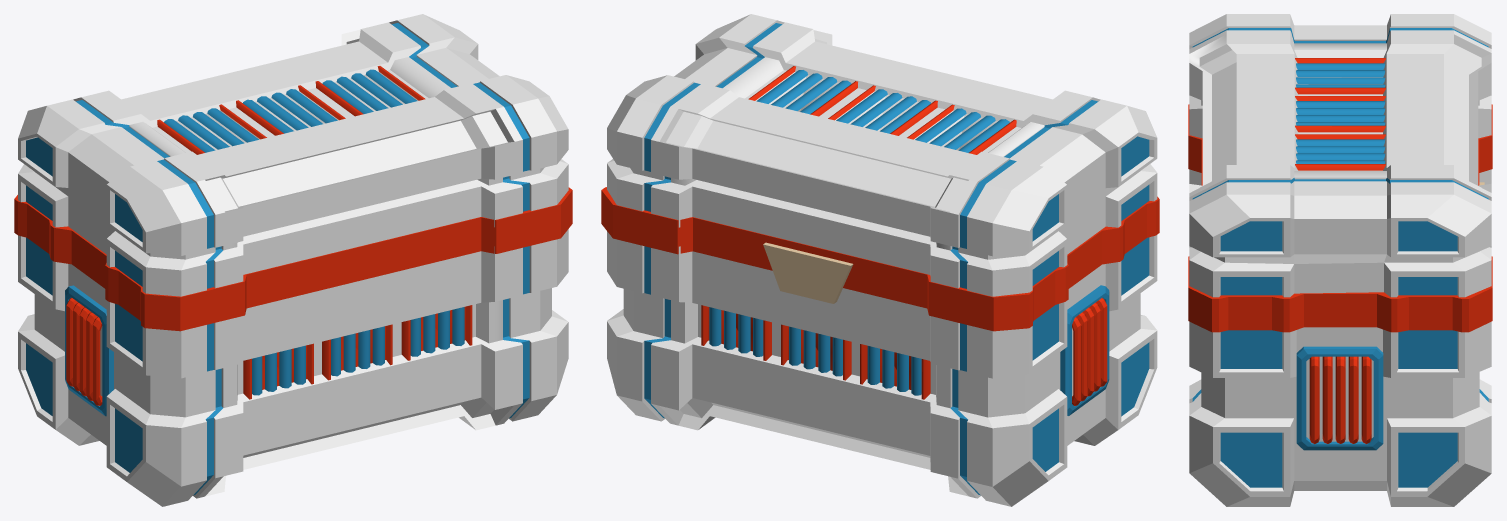
Rendered from Props_ChestTop.005.fbx.
3 views of the same model, side by side, from view 1: azimuth 30°, elevation 25°; view 2: azimuth 150°, elevation 25°; view 3: azimuth 270°, elevation 25° (orthographic).
Visible parts, largest first — view 1: Props_ChestTop.005; view 2: Props_ChestTop.005; view 3: Props_ChestTop.005.
Part boxes in pixels (x1=…): Props_ChestTop.005: x1=14, y1=14, x2=572, y2=506; Props_ChestTop.005: x1=601, y1=14, x2=1159, y2=506; Props_ChestTop.005: x1=1188, y1=14, x2=1492, y2=506.
Bounding box in the file's own units: 1.29 × 0.911 × 0.8052.
